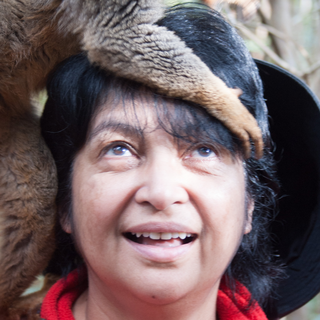eye: (97, 139, 143, 165), (174, 142, 226, 164)
